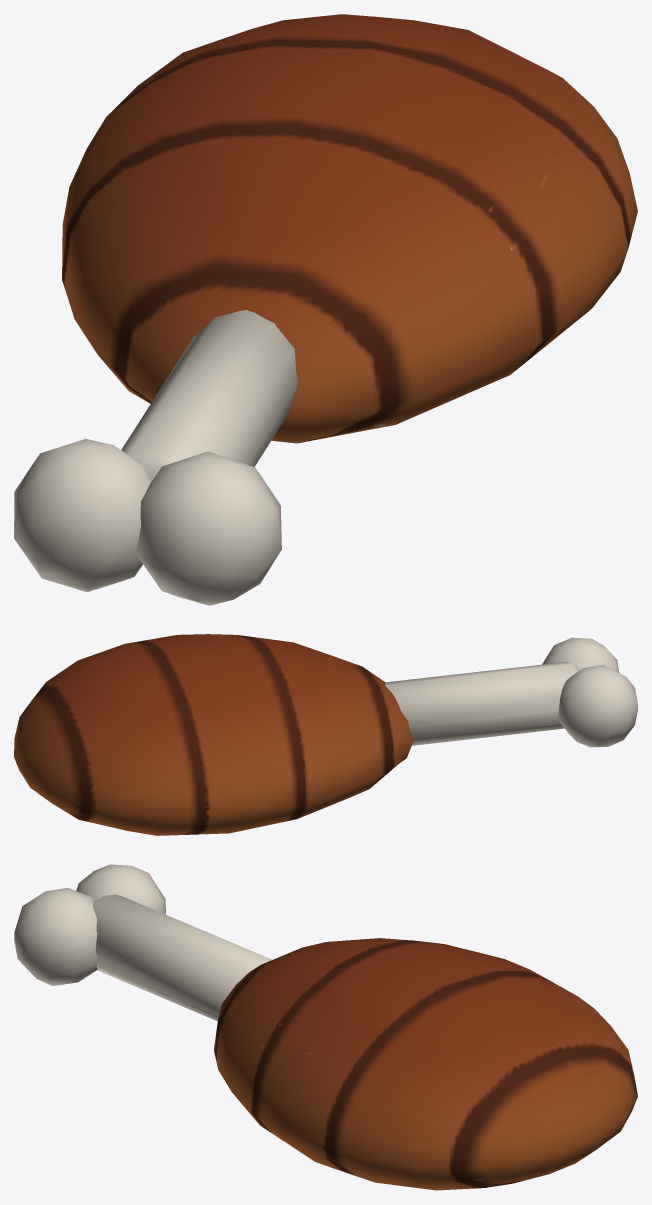
Rendered from item_meat_cooked.glb.
The picture shows the model from 3 angles, top to bottom: view 1: azimuth 30°, elevation 25°; view 2: azimuth 150°, elevation 25°; view 3: azimuth 270°, elevation 25°; orthographic projection. The views are drawn at different scales.
Visible parts, largest first — view 1: meat_bone; view 2: meat_bone; view 3: meat_bone.
Boxes of the visible parts, bbox=[...] form: meat_bone: bbox=[14, 14, 637, 605]; meat_bone: bbox=[14, 634, 637, 835]; meat_bone: bbox=[14, 864, 637, 1190].
Bounding box in the file's own units: 0.6975 × 0.22 × 0.6976.
Materials: 1 (1 with a texture image).
